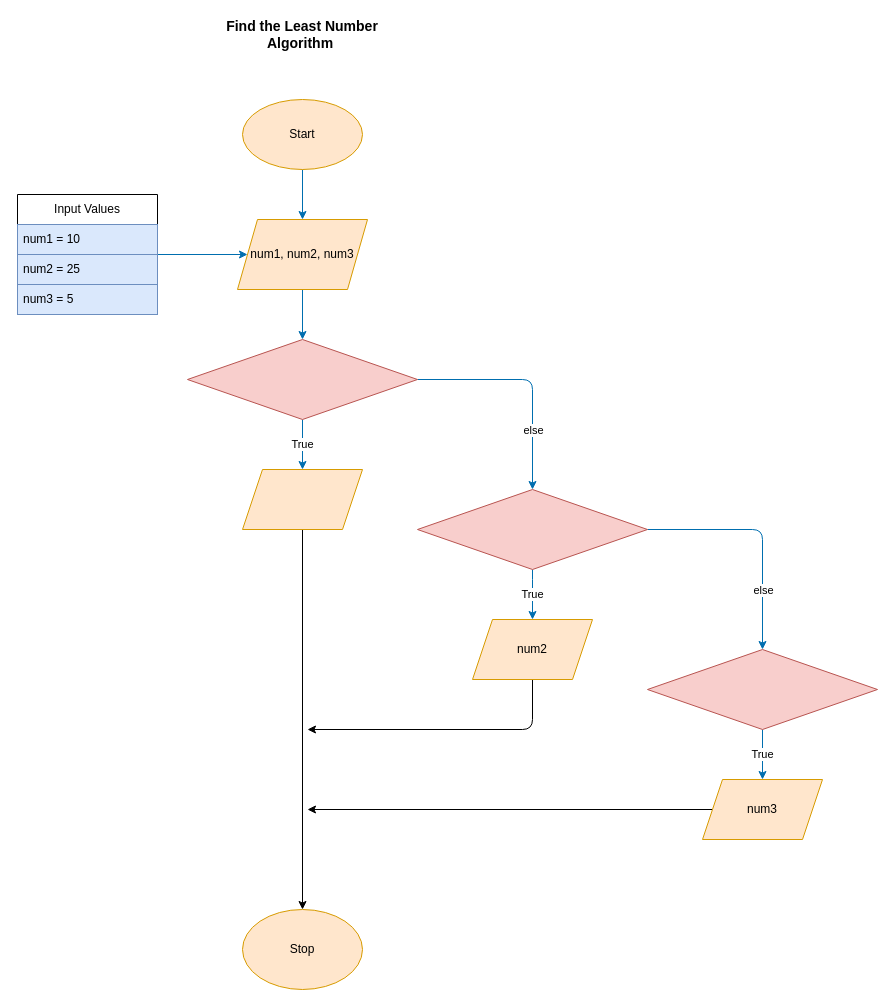
The diagram is 895 pixels wide and 1007 high, and some of its shapes have lost their labels. The shapes that lost their labels are listed below. From the top down, each one's centre as x and y in pixels, then its label:
[302,379]: num1 < num2 and num1 < num3
[302,499]: num1
[532,529]: num2 < num1 and num2 < num3
[762,689]: num3 < num1 and num3 < num2
